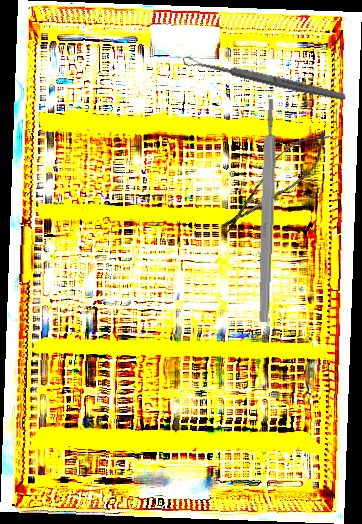Micro Scissor: (211, 119, 340, 245)
Scalpel Handle: (257, 98, 278, 323)
Surgical Spoon: (181, 54, 348, 103)
